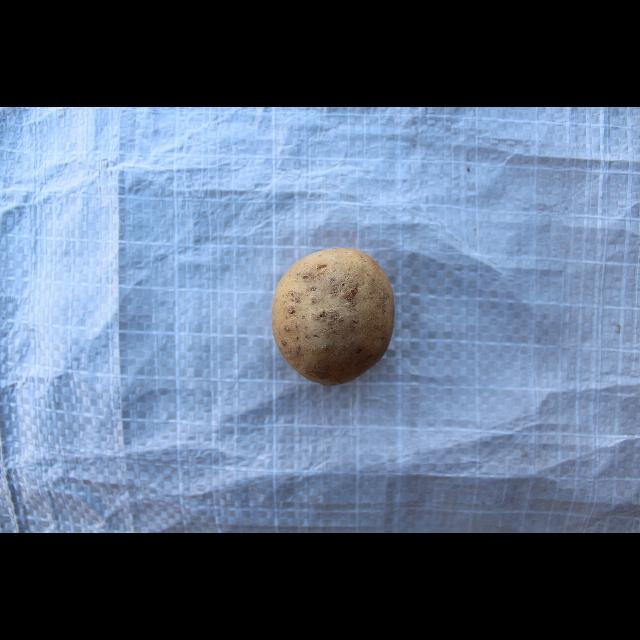Diseased-fungal potato: (270, 244, 398, 382)
